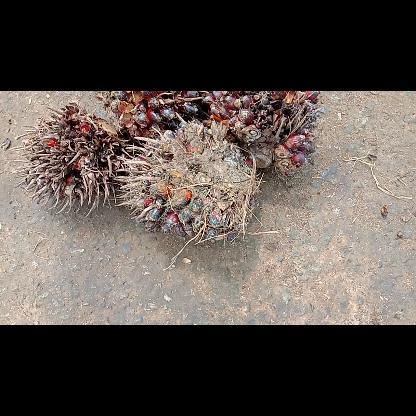TBS abnormal: (117, 114, 261, 240), (11, 102, 129, 216), (211, 90, 321, 170), (97, 91, 209, 138)
